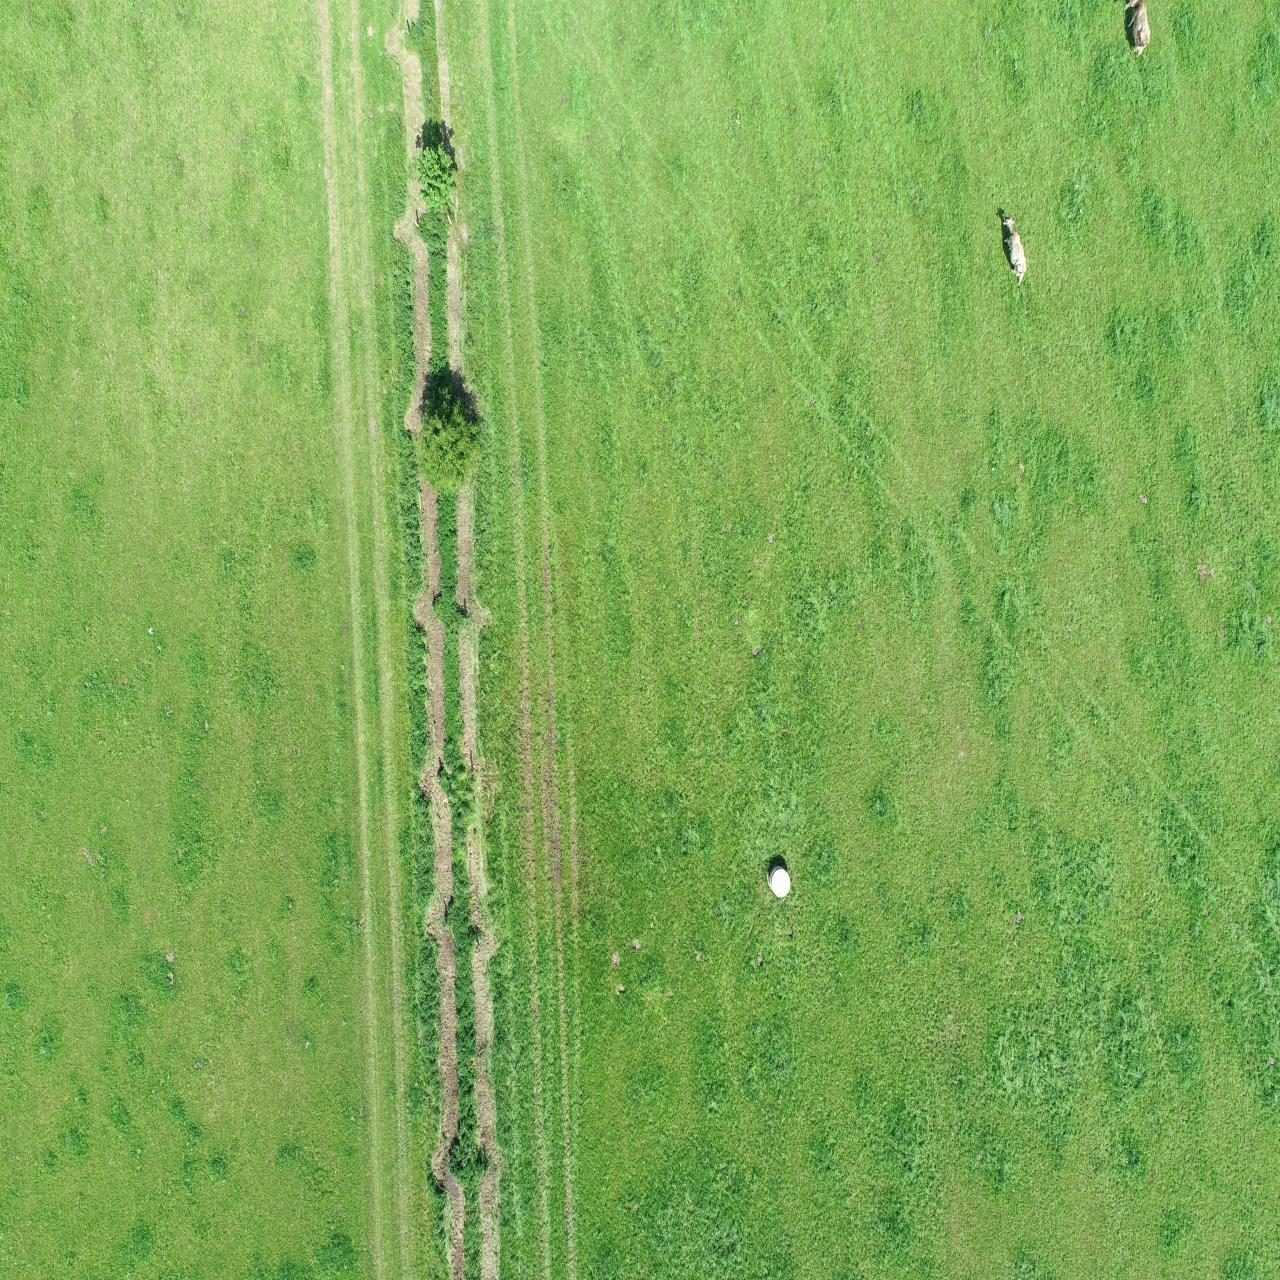cow: (1000, 212, 1029, 290)
